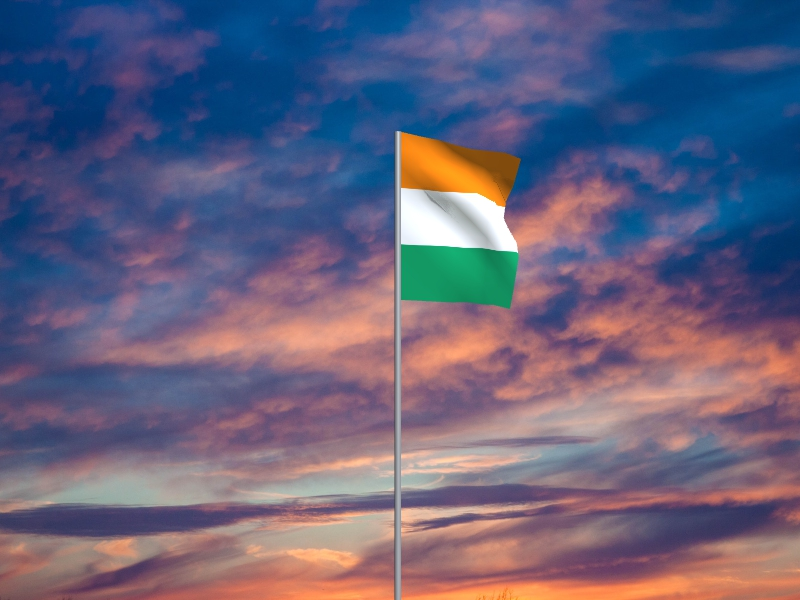ci: (402, 132, 522, 311)
